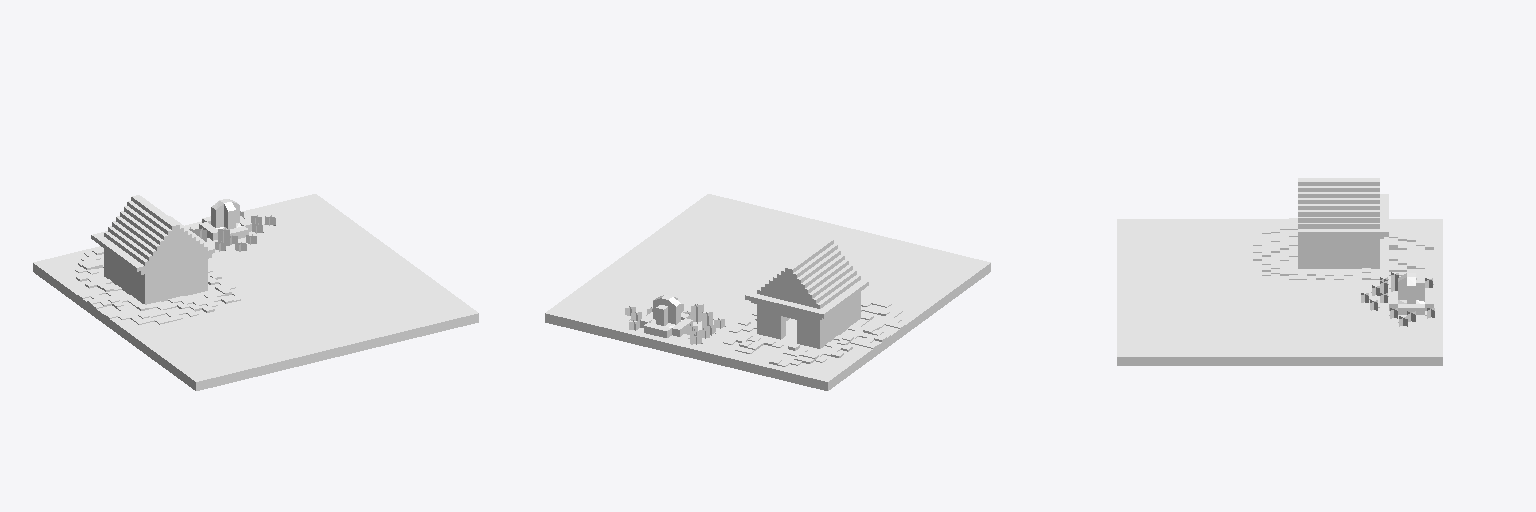
Rendered from icehouse.obj.
3 views of the same model, side by side, from view 1: azimuth 30°, elevation 25°; view 2: azimuth 150°, elevation 25°; view 3: azimuth 270°, elevation 25° (orthographic).
Parts seen in each view (by area): view 1: icehouse__-15_-64_-19_to_22_-10_18; view 2: icehouse__-15_-64_-19_to_22_-10_18; view 3: icehouse__-15_-64_-19_to_22_-10_18.
Boxes of the visible parts, <box> form: icehouse__-15_-64_-19_to_22_-10_18: <box>33,194,478,390</box>; icehouse__-15_-64_-19_to_22_-10_18: <box>545,194,990,390</box>; icehouse__-15_-64_-19_to_22_-10_18: <box>1117,178,1442,365</box>.
Size of the model in its own units: 36 by 10 by 36.